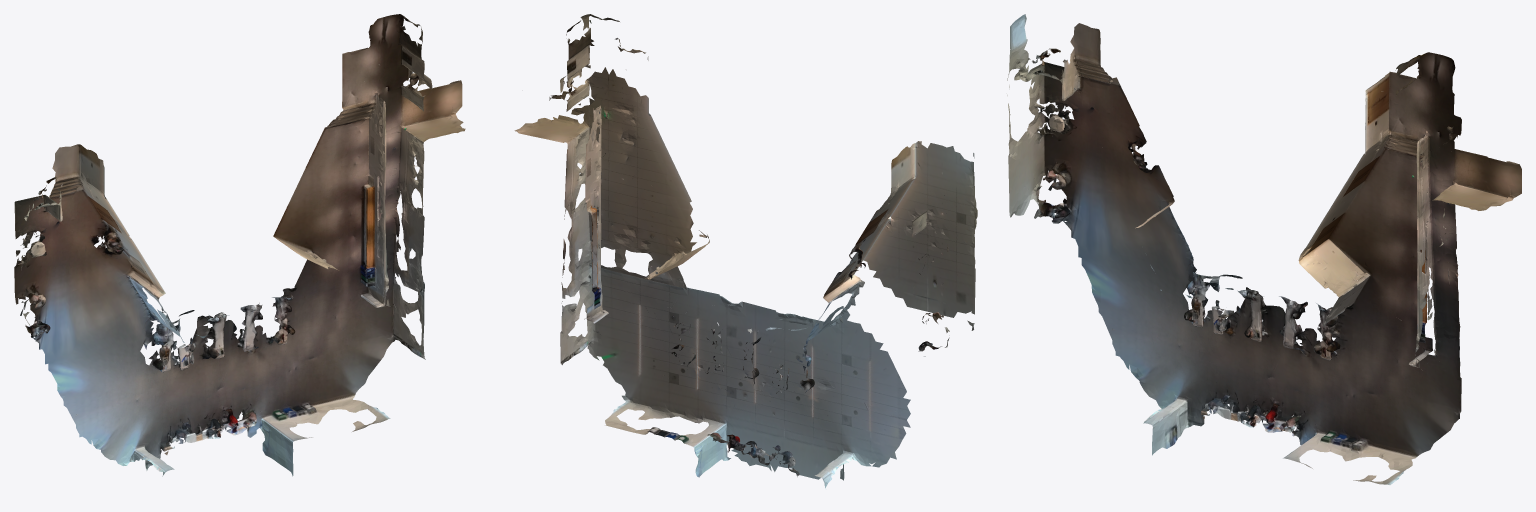
The model's file is level1-scan-2026-05-06.glb.
3 renders of one model, left to right at view 1: azimuth 30°, elevation 25°; view 2: azimuth 150°, elevation 25°; view 3: azimuth 330°, elevation 25°, orthographic. The views are drawn at different scales.
Parts seen in each view (by area): view 1: mesh_0 (×7); view 2: mesh_0 (×8); view 3: mesh_0 (×8).
Part boxes in pixels (x1=…): mesh_0 (×7): x1=14, y1=14, x2=465, y2=476; mesh_0 (×8): x1=514, y1=14, x2=977, y2=489; mesh_0 (×8): x1=1007, y1=14, x2=1521, y2=484.
Size of the model in its own units: 28.86 by 25.54 by 3.7.
8 materials, 8 textured.
